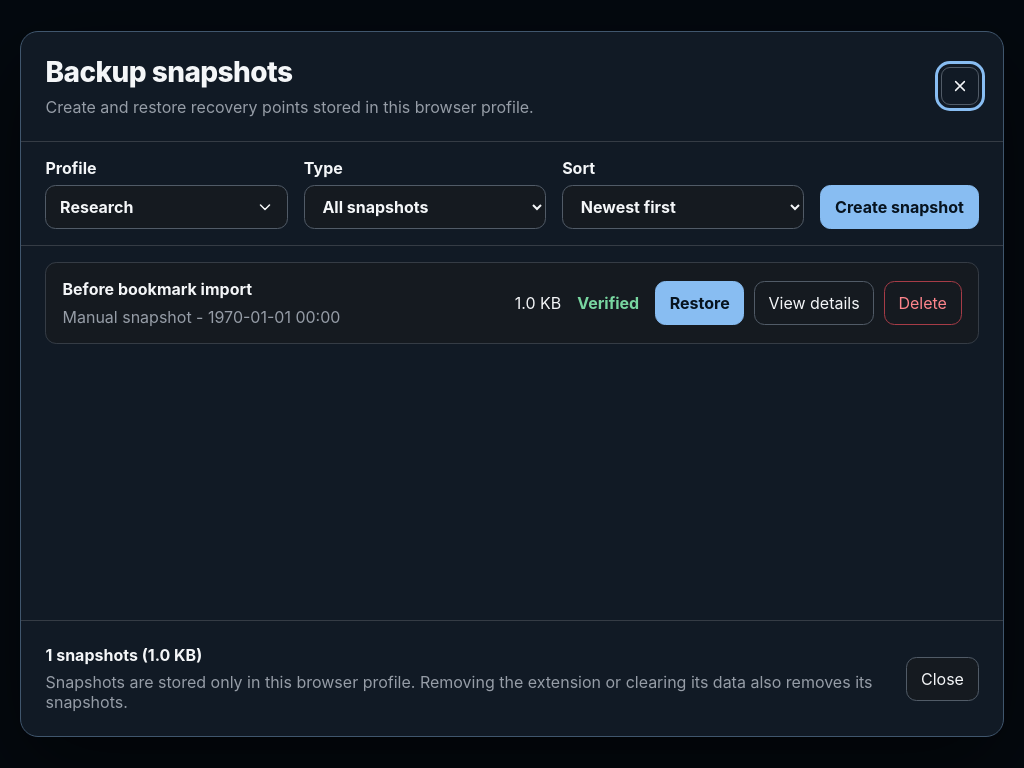
it: BackupDialog › explains an empty automatic filter without prompting for a manual snapshot
The width and height of the screenshot is (1024, 768).
Select "Automatic" in the dropdown labelled "Type" at (425, 207), box [304,185,546,229]
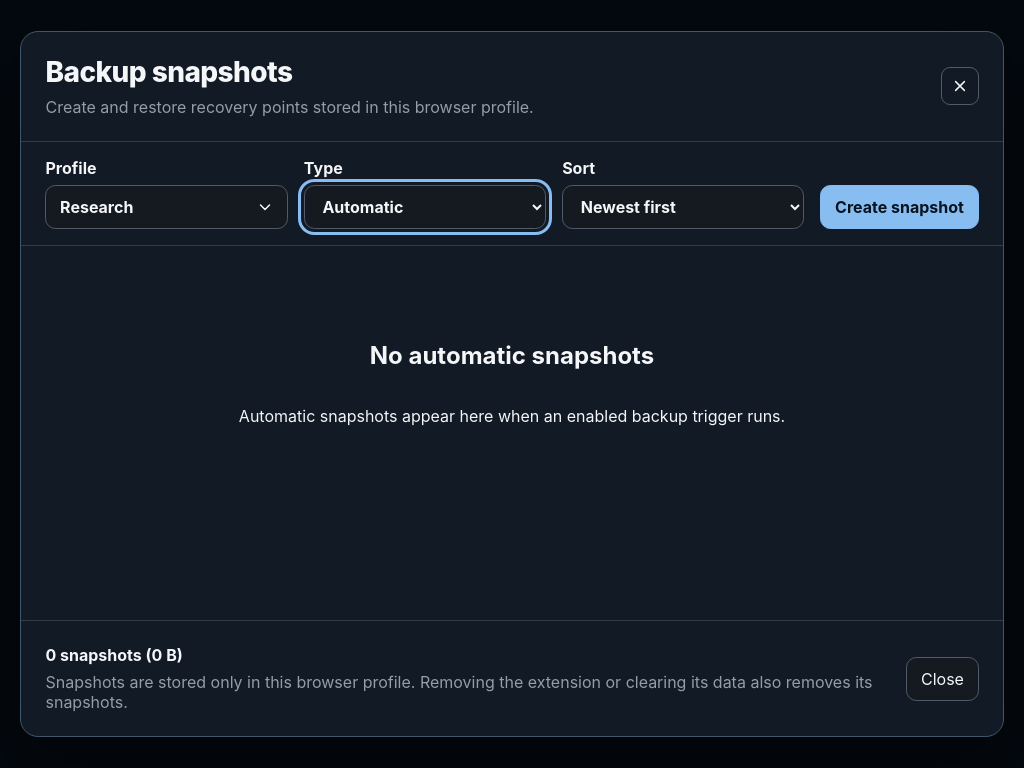
Result: the heading "No automatic snapshots" is shown at [370,341,654,370]
Result: the number of buttons "Create snapshot" is 1 at [820,185,978,229]
